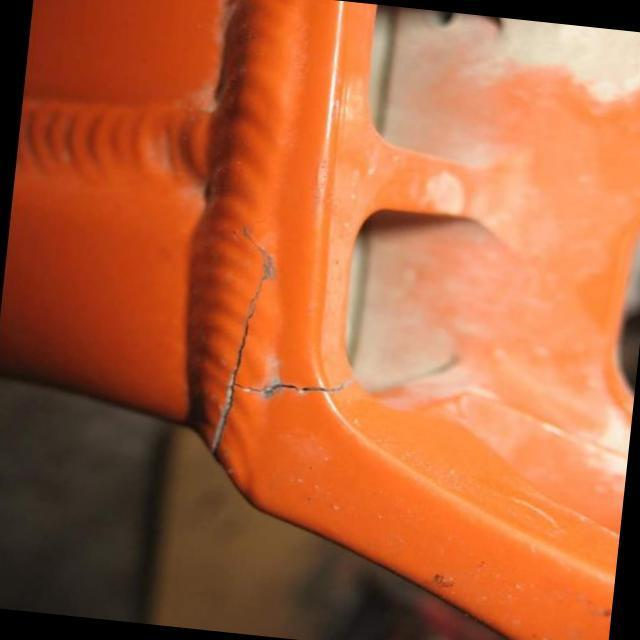defect: (204, 210, 360, 457)
